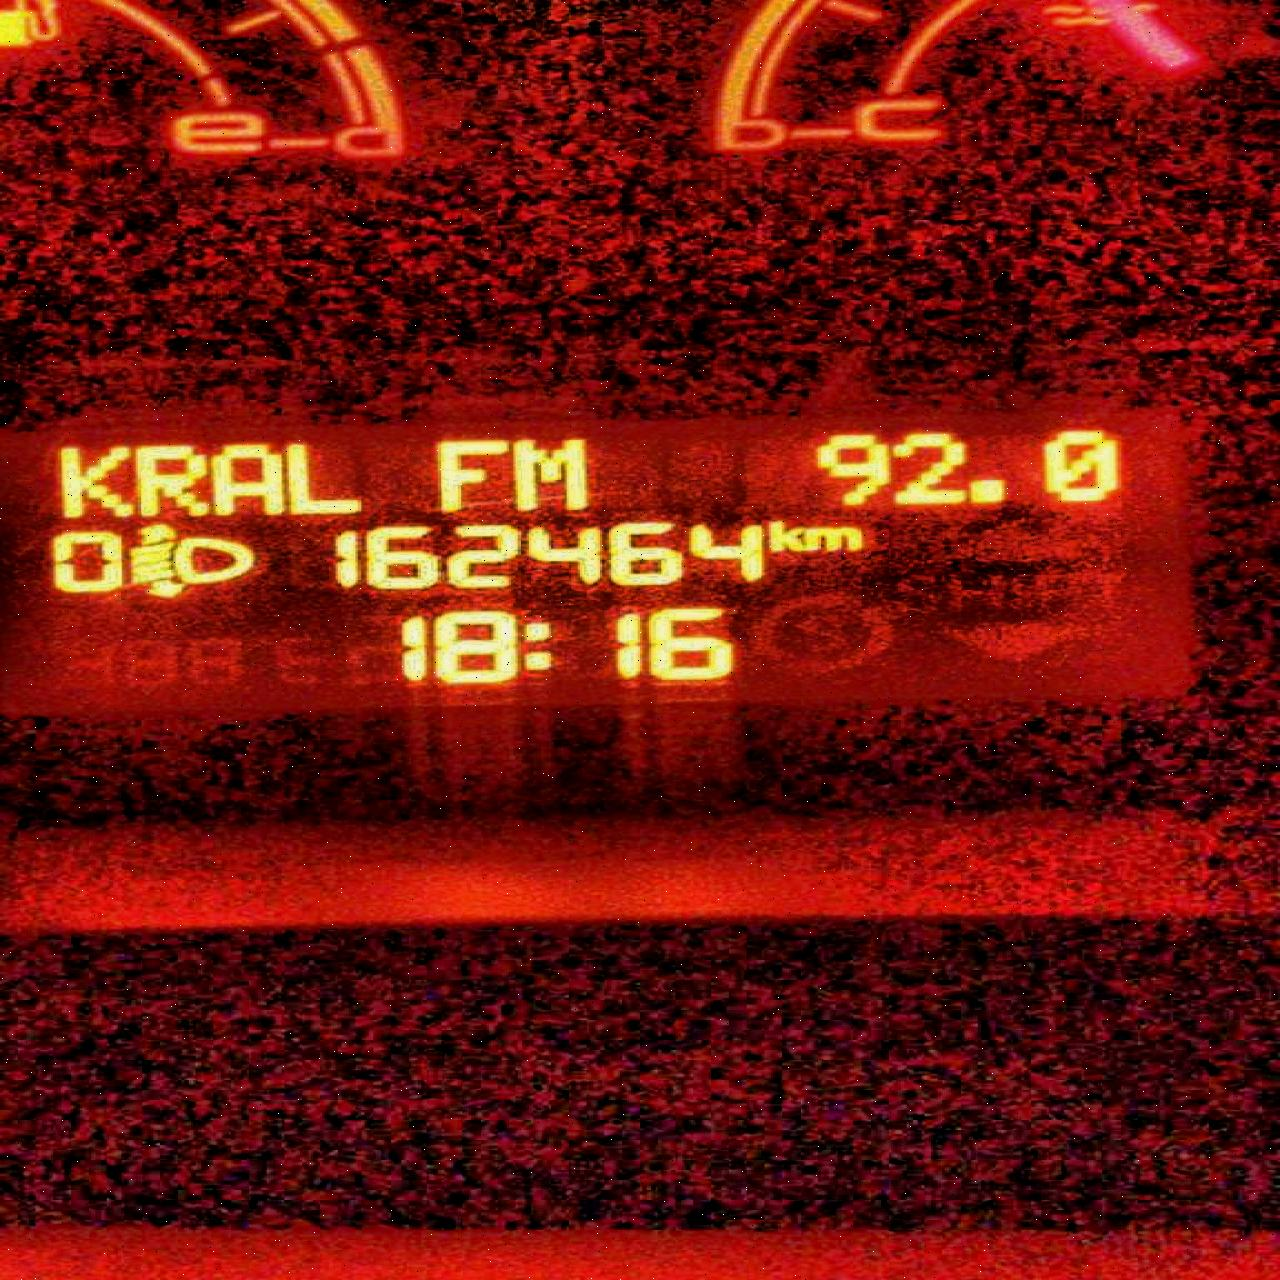-: (965, 477, 1007, 504)
0: (1039, 429, 1121, 502), (49, 530, 122, 592)
1: (608, 610, 642, 680), (395, 614, 429, 681), (329, 527, 360, 587)
2: (888, 431, 967, 505), (444, 523, 519, 587)
4: (524, 524, 602, 585), (685, 523, 764, 583)
6: (645, 605, 737, 681), (605, 520, 682, 585), (362, 524, 440, 588)
8: (429, 607, 520, 683)
9: (813, 433, 888, 506)
X: (508, 437, 588, 511), (209, 442, 287, 517), (55, 443, 134, 517), (287, 442, 362, 517), (134, 443, 209, 516), (434, 437, 506, 512), (518, 619, 553, 672), (802, 525, 860, 551), (767, 517, 804, 551)
odometer: (0, 407, 1196, 722)
